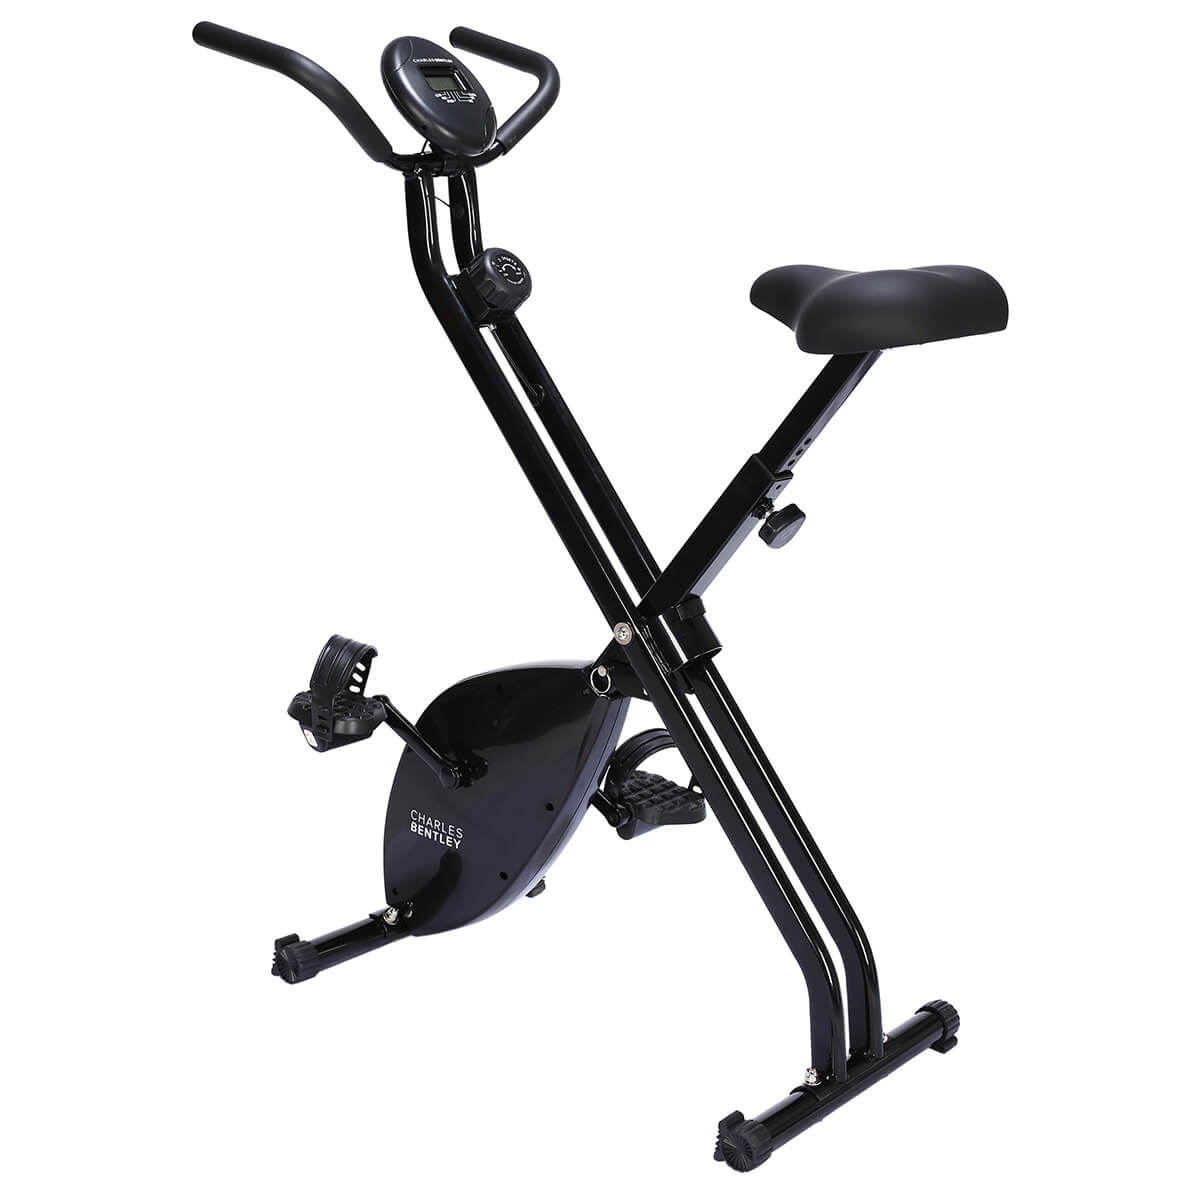gym_bike: (207, 19, 1024, 1145)
